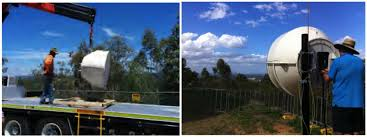ba: (260, 24, 335, 99), (77, 46, 115, 90)
